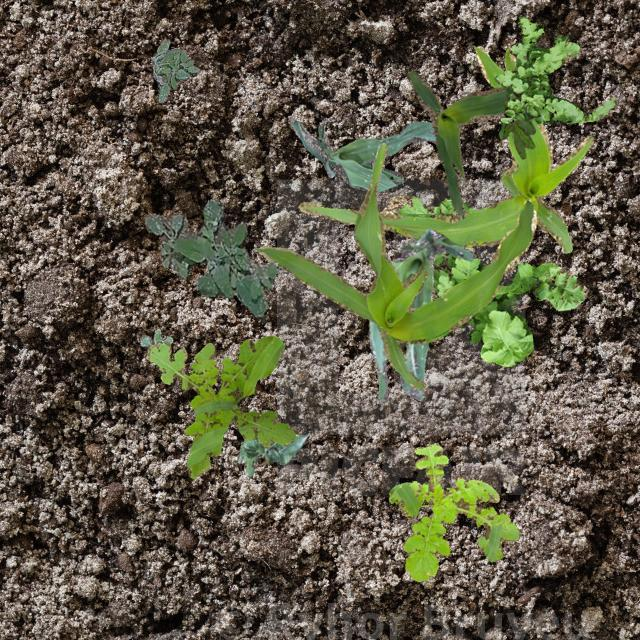crop: (254, 142, 536, 388), (296, 45, 592, 252), (368, 228, 472, 402), (406, 70, 508, 218), (288, 118, 436, 192), (236, 432, 308, 476)
weed: (379, 194, 586, 366), (147, 336, 296, 478), (388, 442, 518, 580), (143, 198, 280, 316), (492, 16, 616, 122), (150, 38, 198, 102), (498, 92, 534, 158), (140, 328, 172, 347)
